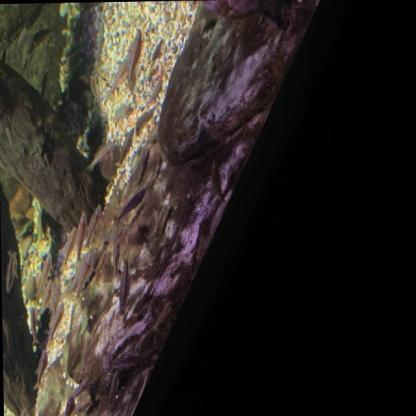fish: (66, 250, 98, 300), (122, 27, 146, 93), (105, 47, 132, 101), (115, 186, 149, 226), (117, 257, 135, 312), (84, 202, 106, 246), (86, 141, 116, 170), (74, 211, 90, 265), (59, 226, 77, 270), (116, 127, 136, 165), (30, 351, 50, 389), (46, 301, 66, 338), (209, 160, 226, 202), (136, 147, 154, 185), (38, 252, 54, 294), (4, 249, 19, 293), (106, 368, 122, 405), (135, 106, 156, 133), (39, 278, 54, 314), (28, 307, 41, 344), (111, 238, 123, 274), (72, 376, 90, 399), (51, 277, 63, 310), (150, 38, 165, 62), (62, 394, 77, 415), (89, 75, 99, 100), (16, 26, 26, 46), (17, 408, 28, 416)
